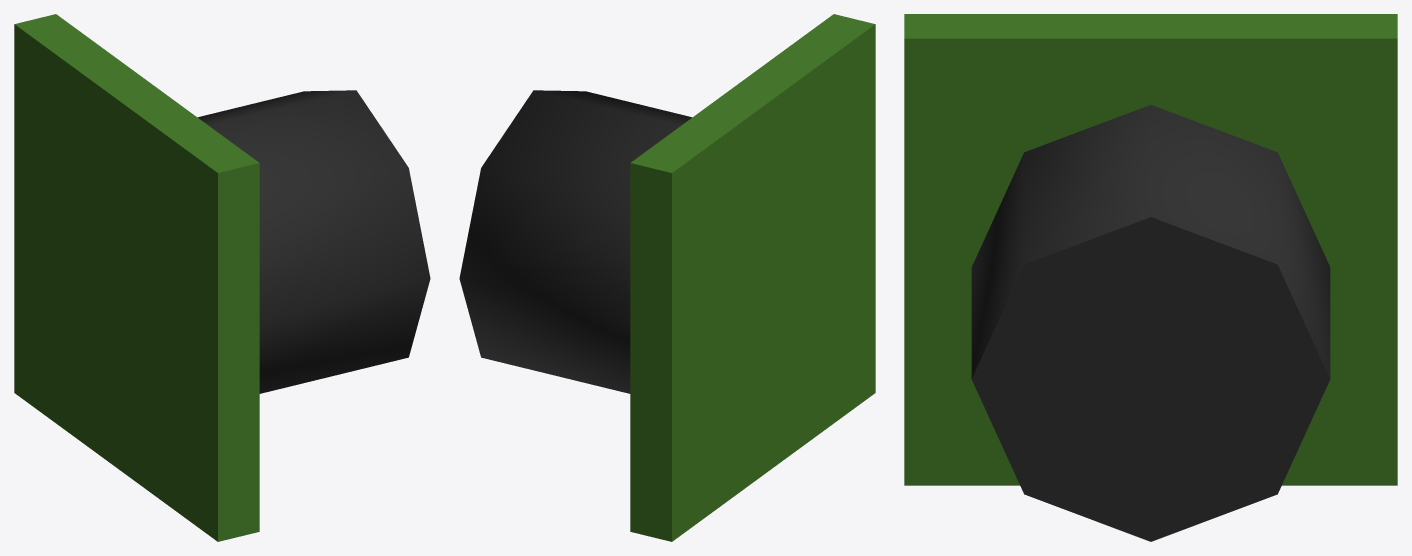
File: max_sonar_ez4.dae
3 renders of one model, left to right at view 1: azimuth 30°, elevation 25°; view 2: azimuth 150°, elevation 25°; view 3: azimuth 270°, elevation 25°, orthographic. The views are drawn at different scales.
Visible parts, largest first — view 1: Plane; view 2: Plane; view 3: Plane.
Boxes of the visible parts, box(x1,y1,x2,y2) form: Plane: box(14, 14, 430, 541); Plane: box(459, 14, 875, 541); Plane: box(904, 14, 1397, 541).
Bounding box in the file's own units: 0.015 × 0.022 × 0.022.
